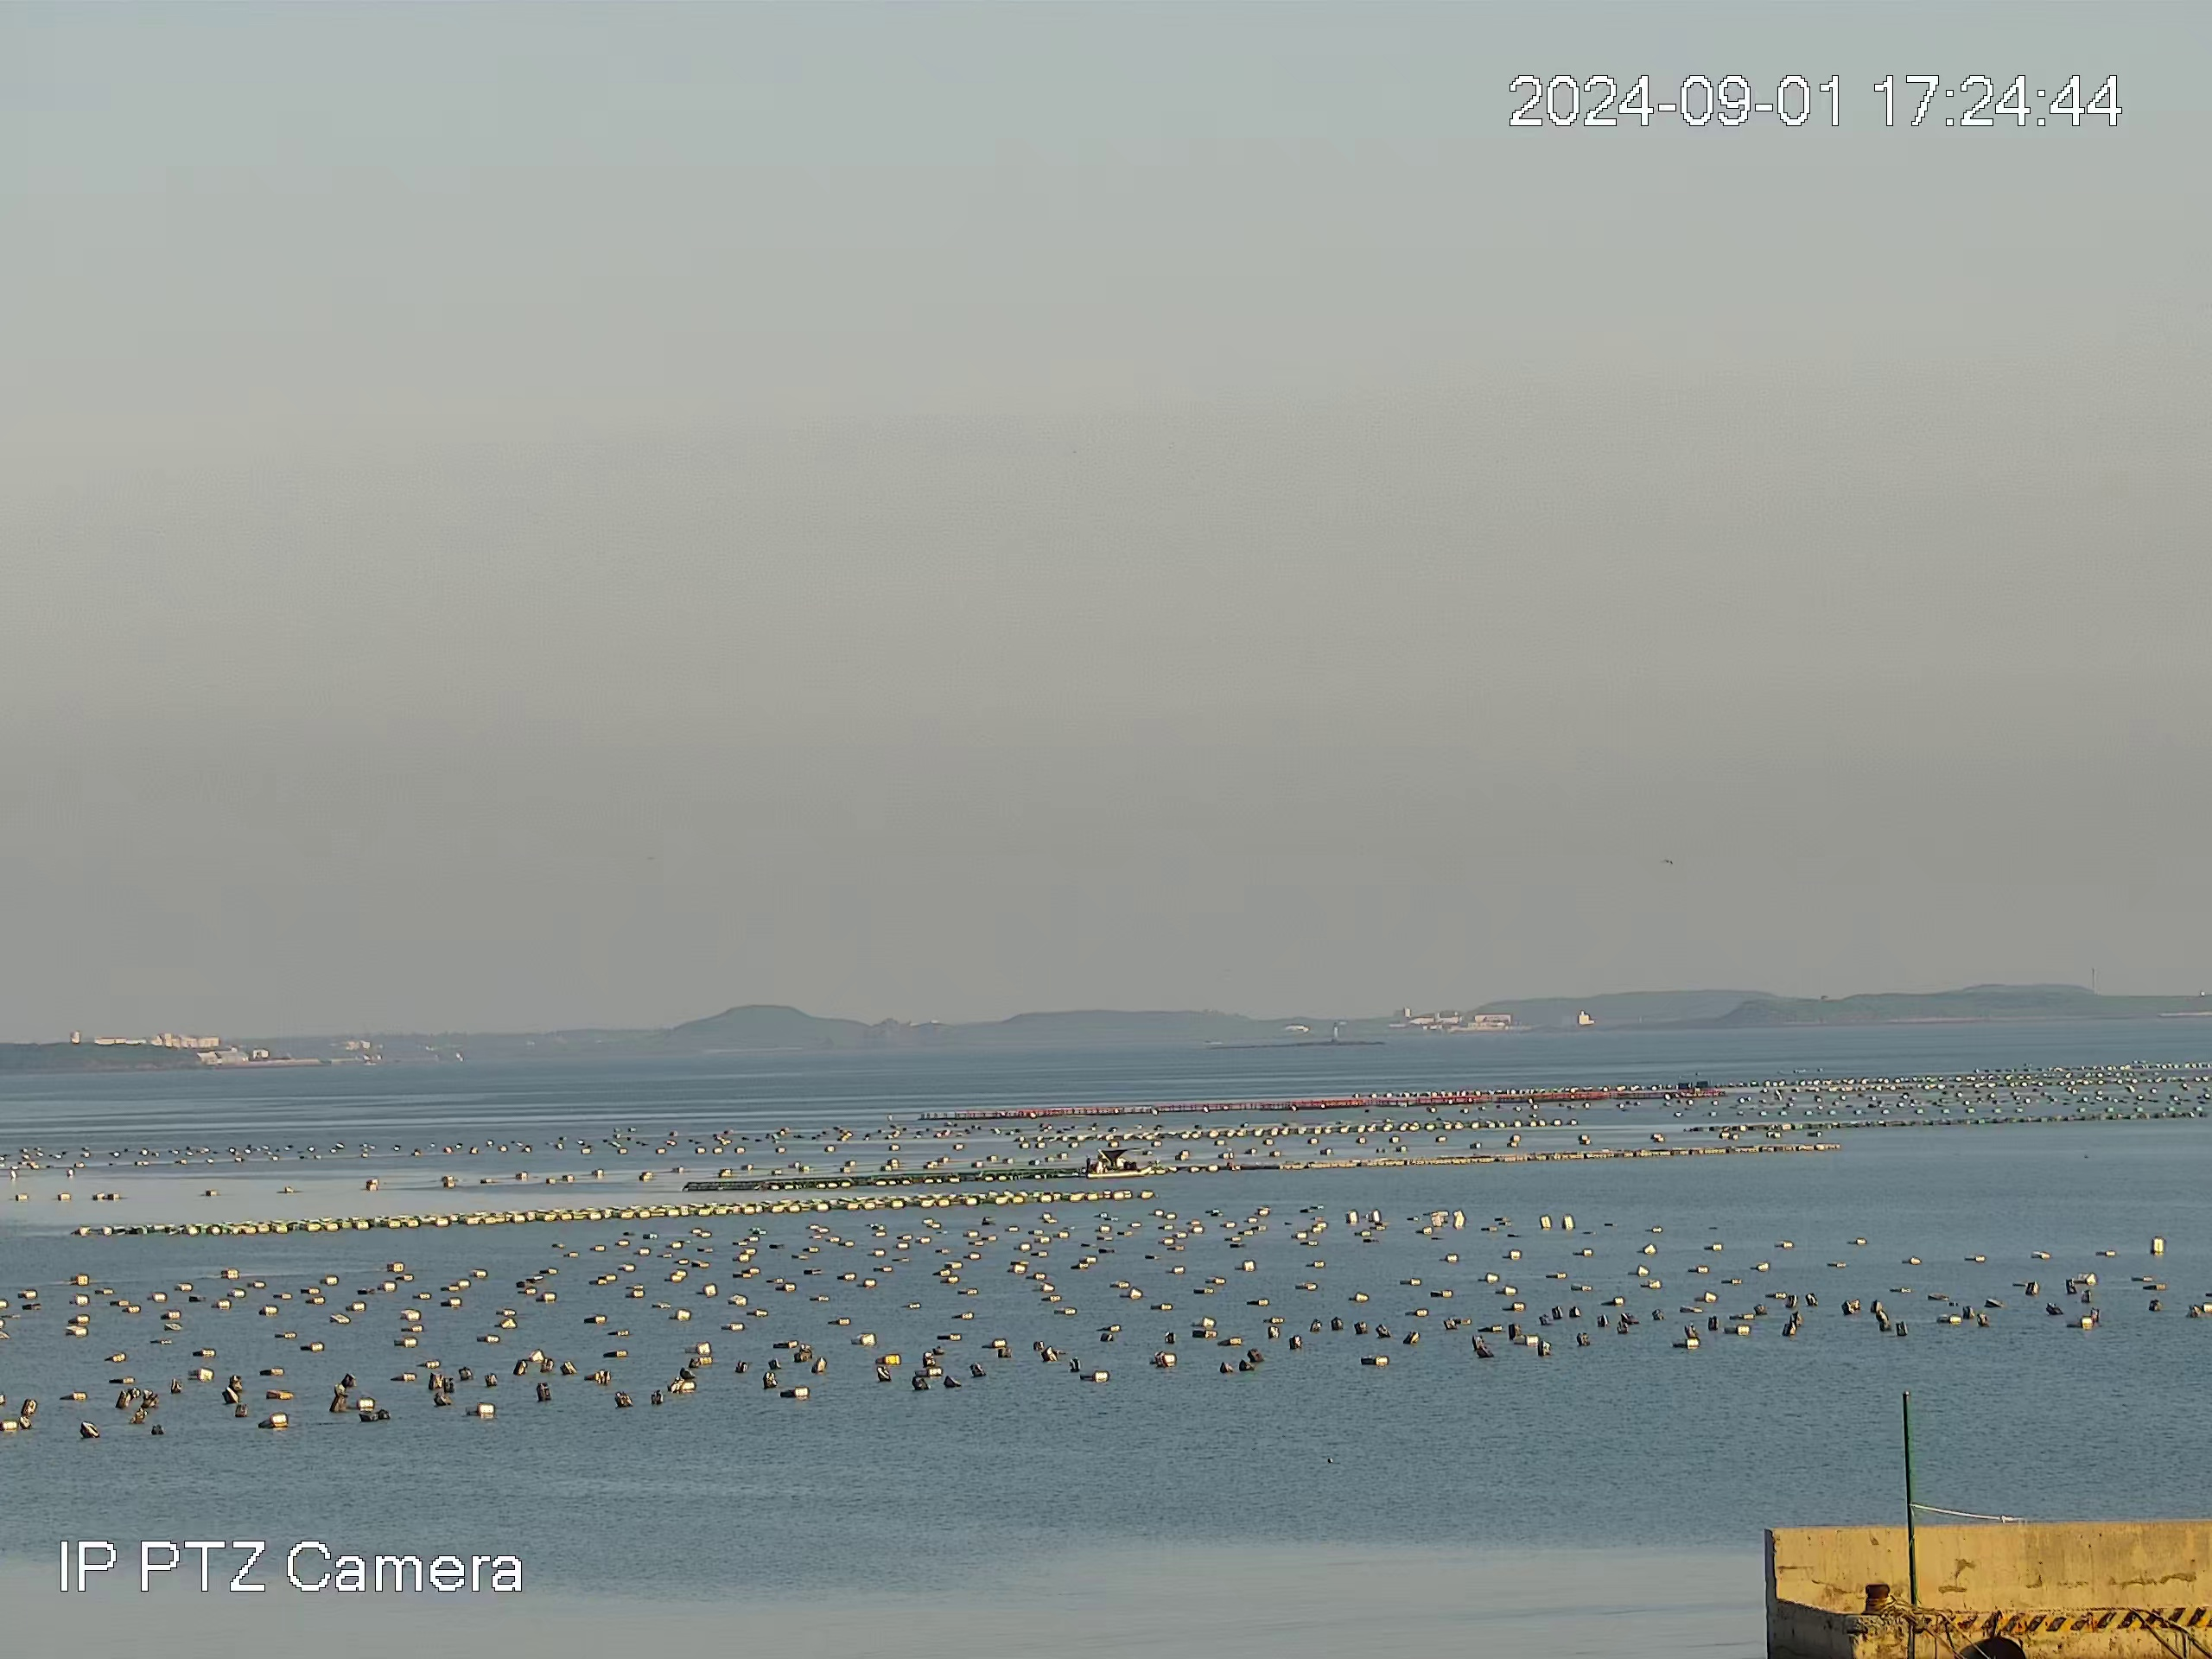boat: (1090, 1147, 1152, 1175)
